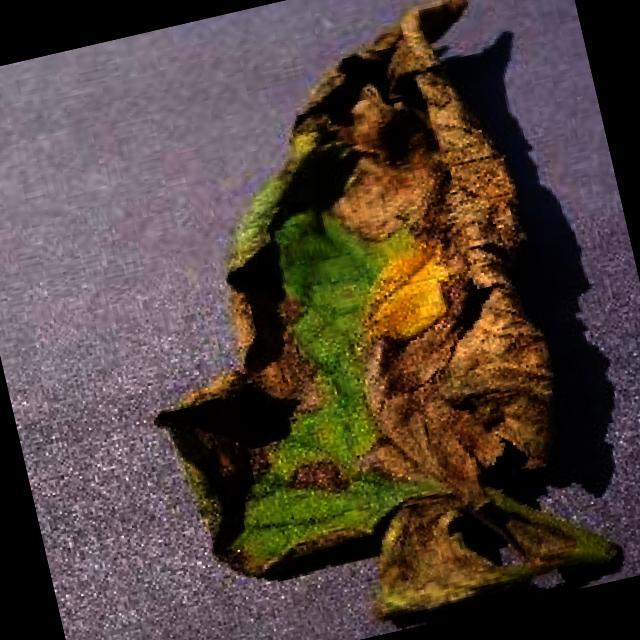Tomato late blight leaf: (70, 0, 605, 640)
